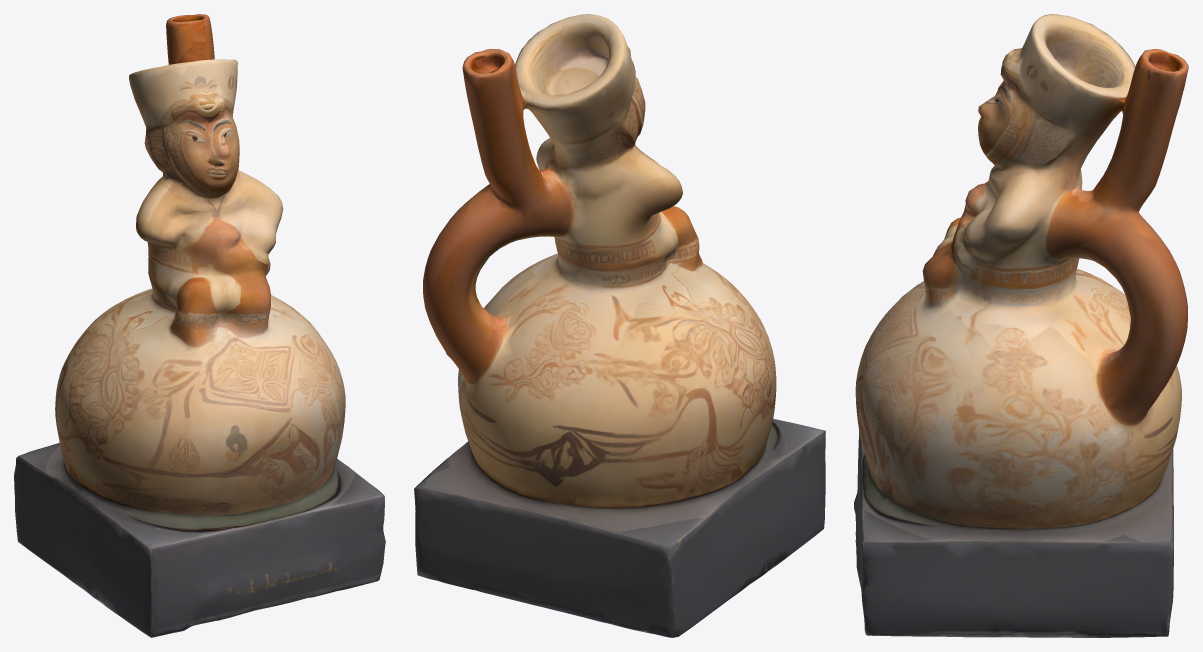
3 renders of one model, left to right at view 1: azimuth 30°, elevation 25°; view 2: azimuth 150°, elevation 25°; view 3: azimuth 270°, elevation 25°, orthographic. The views are drawn at different scales.
Size of the model in its own units: 1.05 by 2 by 1.09.
Materials: 1 (1 with a texture image).
